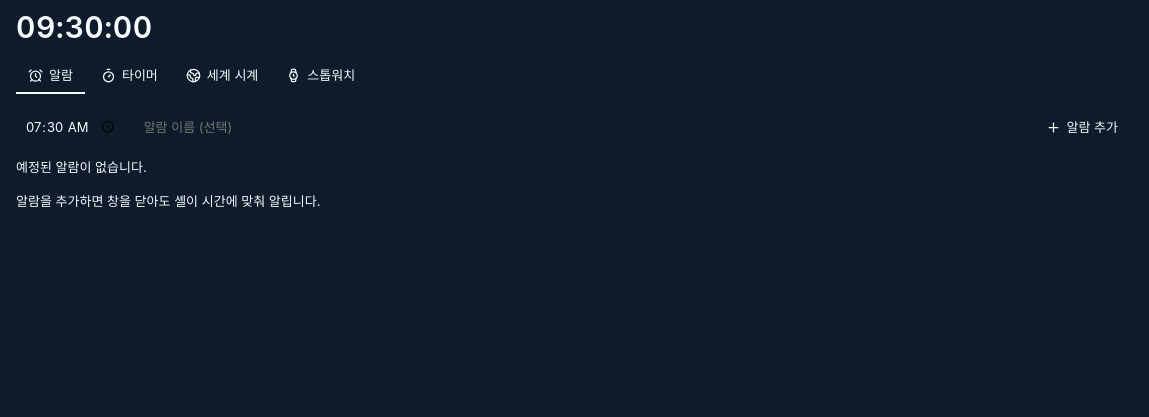
it: 세계 시계 › adds and removes cities and persists the list for the next open
Click the tab "세계 시계": (222,76) [174,58,270,94]
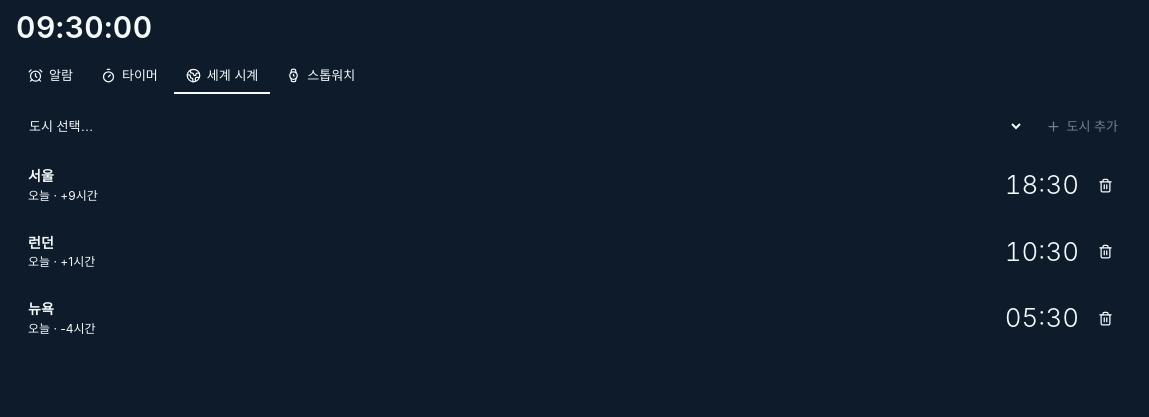
Check: the text "서울" is shown, box [28,167,54,184]
Check: the text "런던" is shown, box [28,234,54,251]
Check: the text "뉴욕" is shown, box [28,300,54,317]
Select "도쿄" in the dropdown named "추가할 도시": (520,126) [16,110,1024,142]
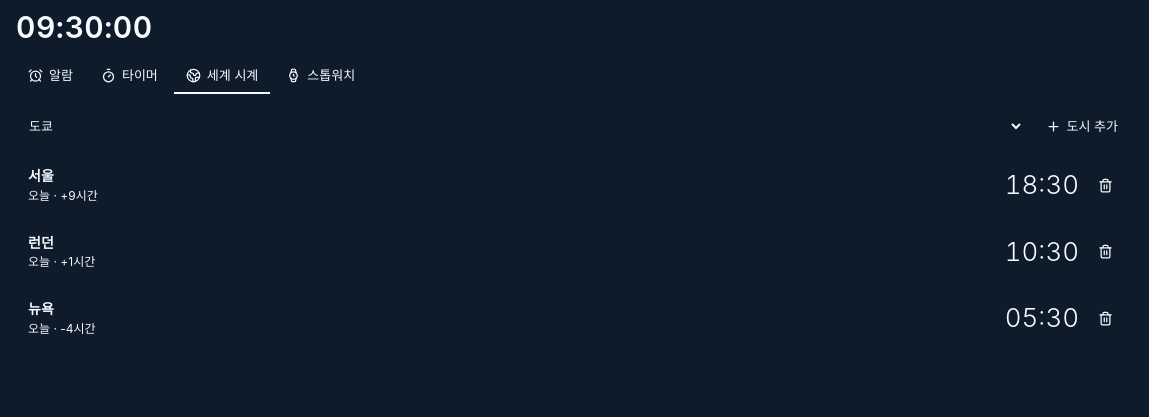
Click the button "도시 추가": (1082,126) [1032,110,1132,142]
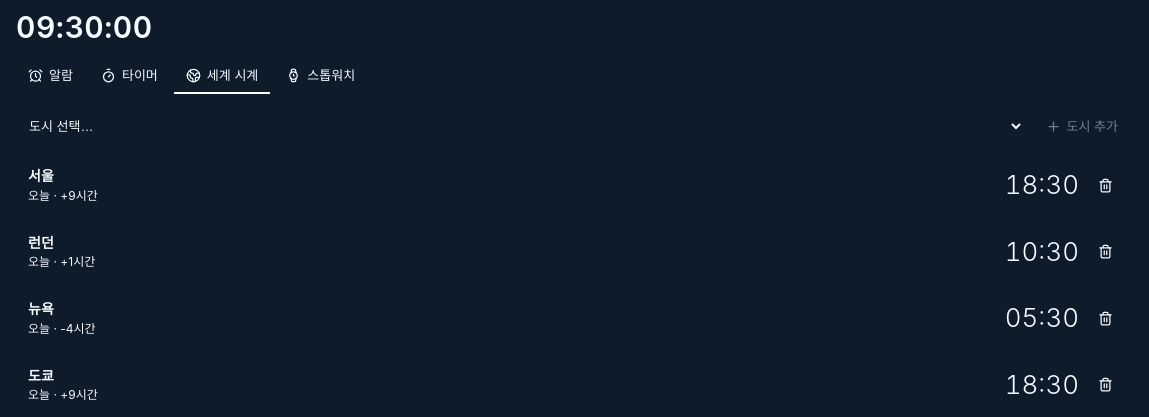
Check: the text "도쿄" is shown, box [28,366,54,384]
Click the button named "도시 삭제: 런던": (1106,252) [1091,238,1120,266]
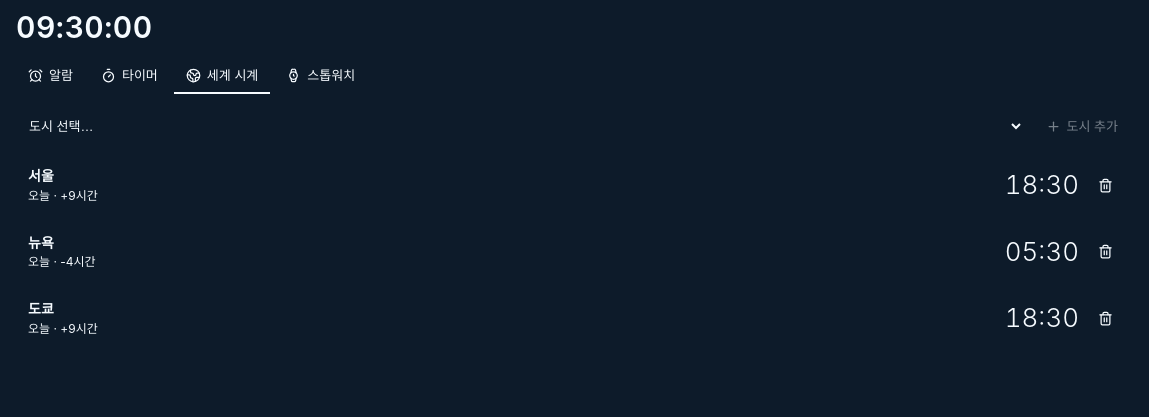
Check: the text "런던" is gone
